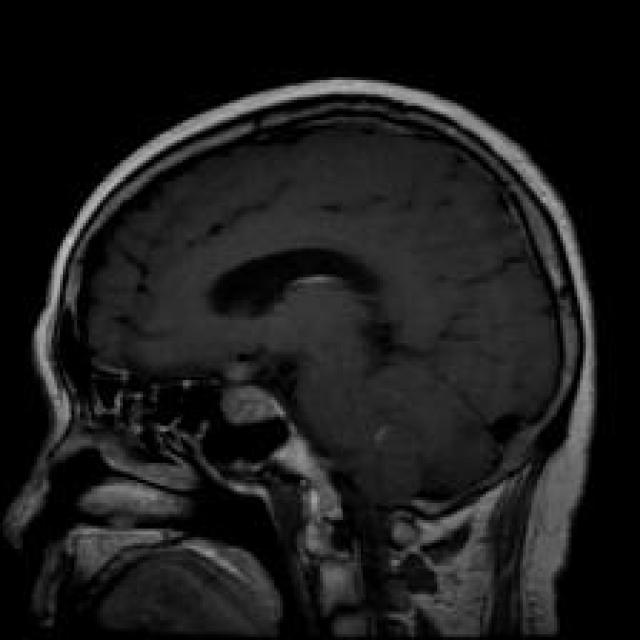pituitary_tumor: (210, 345, 303, 438)
